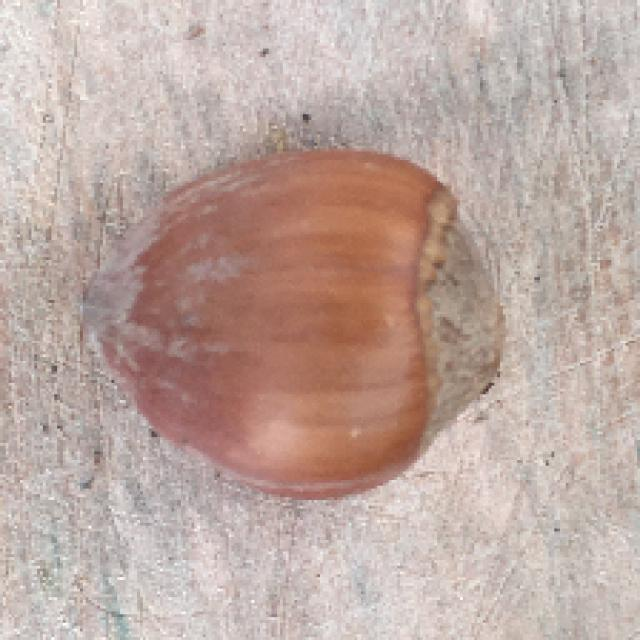DamagedHazelnut: (83, 155, 508, 497)
